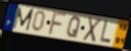0: (31, 10, 47, 33)
F: (47, 11, 68, 36)
L: (99, 20, 112, 45)
M: (12, 6, 35, 32)
Q: (66, 15, 82, 39)
X: (81, 16, 102, 44)
